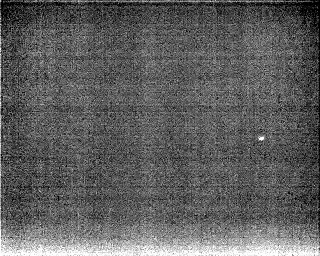AIRPLANE: (257, 134, 266, 143)
